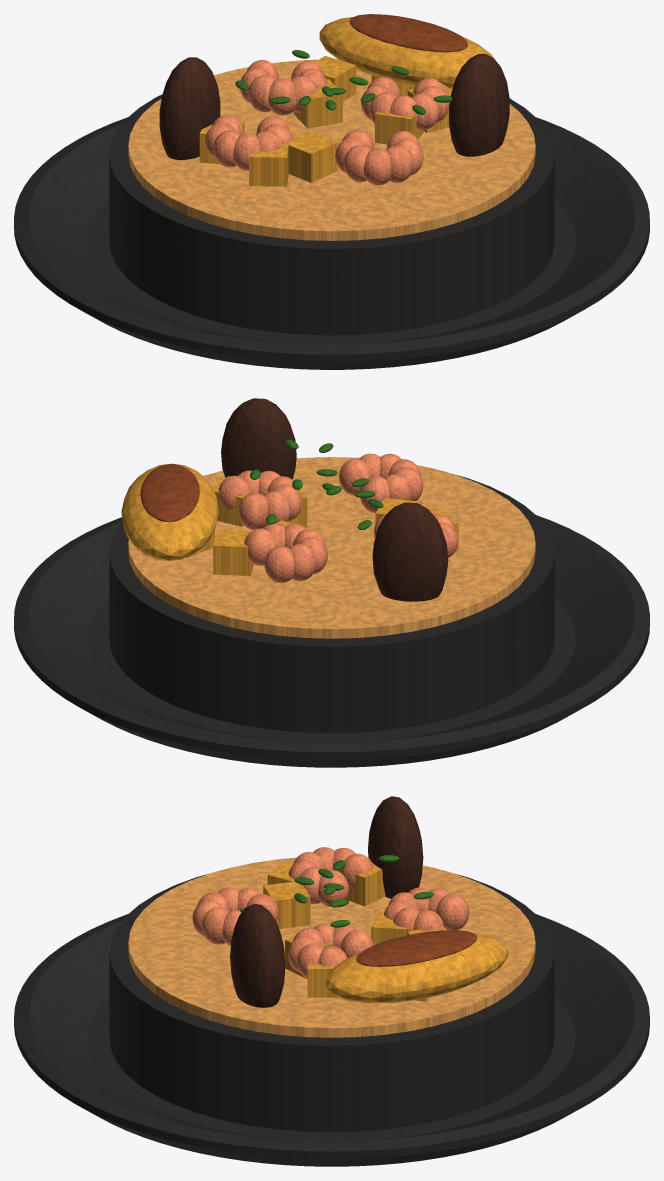
File: cazuela-pacifico.glb
3 renders of one model, top to bottom at view 1: azimuth 30°, elevation 25°; view 2: azimuth 150°, elevation 25°; view 3: azimuth 270°, elevation 25°, orthographic.
Visible parts, largest first — view 1: part0, part1, part2, part4, part3, part6, part5, part7; view 2: part0, part1, part2, part3, part6, part4, part5, part7; view 3: part1, part0, part2, part4, part3, part6, part5, part7.
Boxes of the visible parts, left/top/right/bottom form: part0: left=14, top=117, right=649, bottom=369; part1: left=109, top=94, right=554, bottom=335; part2: left=128, top=59, right=535, bottom=240; part4: left=199, top=17, right=493, bottom=186; part3: left=205, top=60, right=449, bottom=185; part6: left=159, top=54, right=509, bottom=159; part5: left=349, top=14, right=467, bottom=52; part7: left=235, top=50, right=452, bottom=114; part0: left=14, top=515, right=649, bottom=767; part1: left=109, top=475, right=554, bottom=733; part2: left=128, top=457, right=535, bottom=638; part3: left=218, top=453, right=458, bottom=583; part6: left=221, top=398, right=448, bottom=601; part4: left=121, top=463, right=458, bottom=575; part5: left=140, top=464, right=199, bottom=522; part7: left=250, top=439, right=383, bottom=529; part1: left=109, top=874, right=554, bottom=1132; part0: left=14, top=914, right=649, bottom=1166; part2: left=128, top=857, right=535, bottom=1037; part4: left=263, top=857, right=507, bottom=1003; part3: left=192, top=847, right=469, bottom=978; part6: left=230, top=796, right=423, bottom=1007; part5: left=356, top=930, right=476, bottom=966; part7: left=240, top=855, right=433, bottom=927.
Size of the model in its own units: 0.3 by 0.109 by 0.3.
8 materials, 8 textured.
